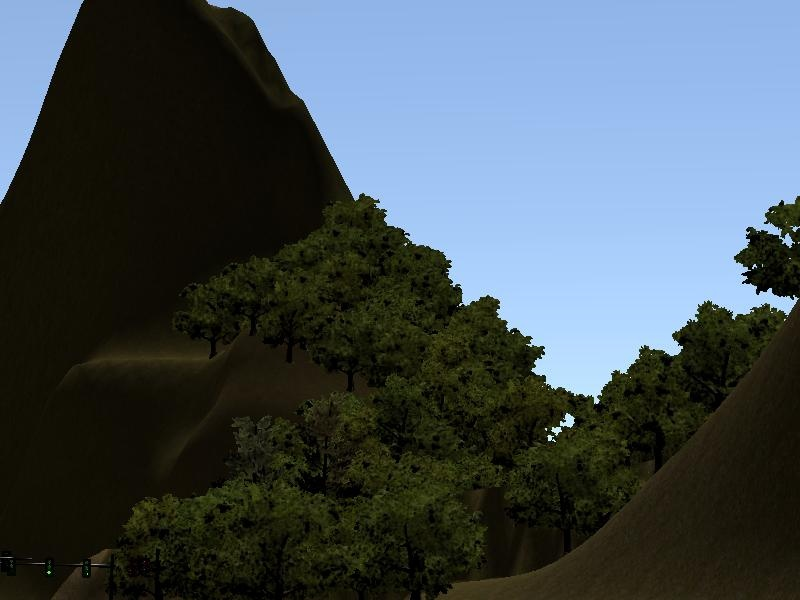GREEN: (39, 546, 62, 587)
